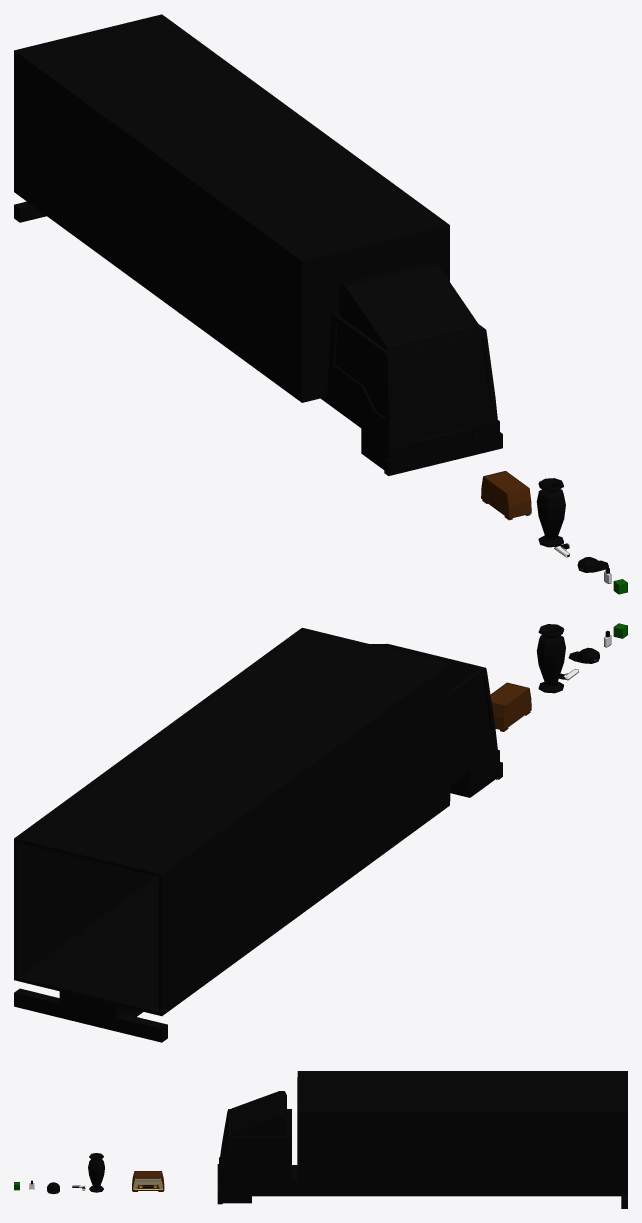
File: Props Extra.fbx
3 renders of one model, top to bottom at view 1: azimuth 30°, elevation 25°; view 2: azimuth 150°, elevation 25°; view 3: azimuth 270°, elevation 25°, orthographic. The views are drawn at different scales.
Visible parts, largest first — view 1: Cube.007, Cube.006, Cube.005; view 2: Cube.007, Cube.005, Cube.006; view 3: Cube.007, Cube.006, Cube.005.
Part boxes in pixels (bbox=[...]): Cube.007: bbox=[14, 14, 502, 475]; Cube.006: bbox=[481, 471, 531, 520]; Cube.005: bbox=[536, 478, 565, 547]; Cube.007: bbox=[14, 627, 502, 1042]; Cube.005: bbox=[536, 624, 565, 693]; Cube.006: bbox=[490, 682, 531, 731]; Cube.007: bbox=[217, 1071, 627, 1208]; Cube.006: bbox=[132, 1171, 164, 1191]; Cube.005: bbox=[88, 1153, 104, 1192].
Size of the model in its own units: 686 by 755 by 4294.
